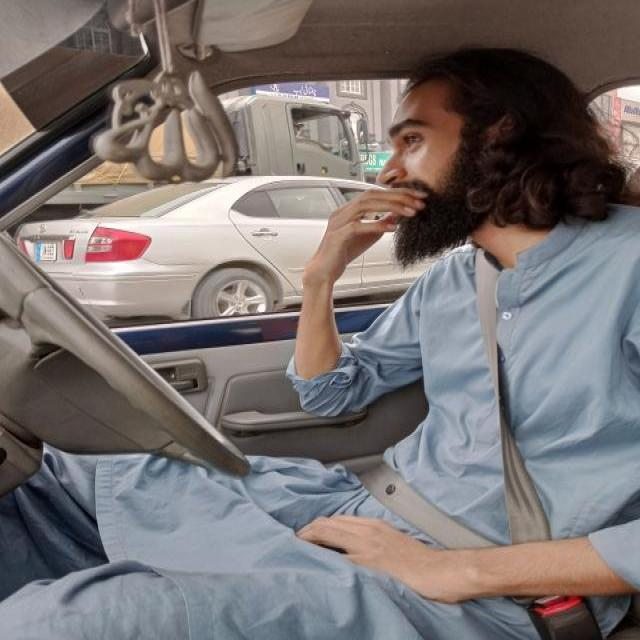seatbelt: (377, 280, 618, 593)
